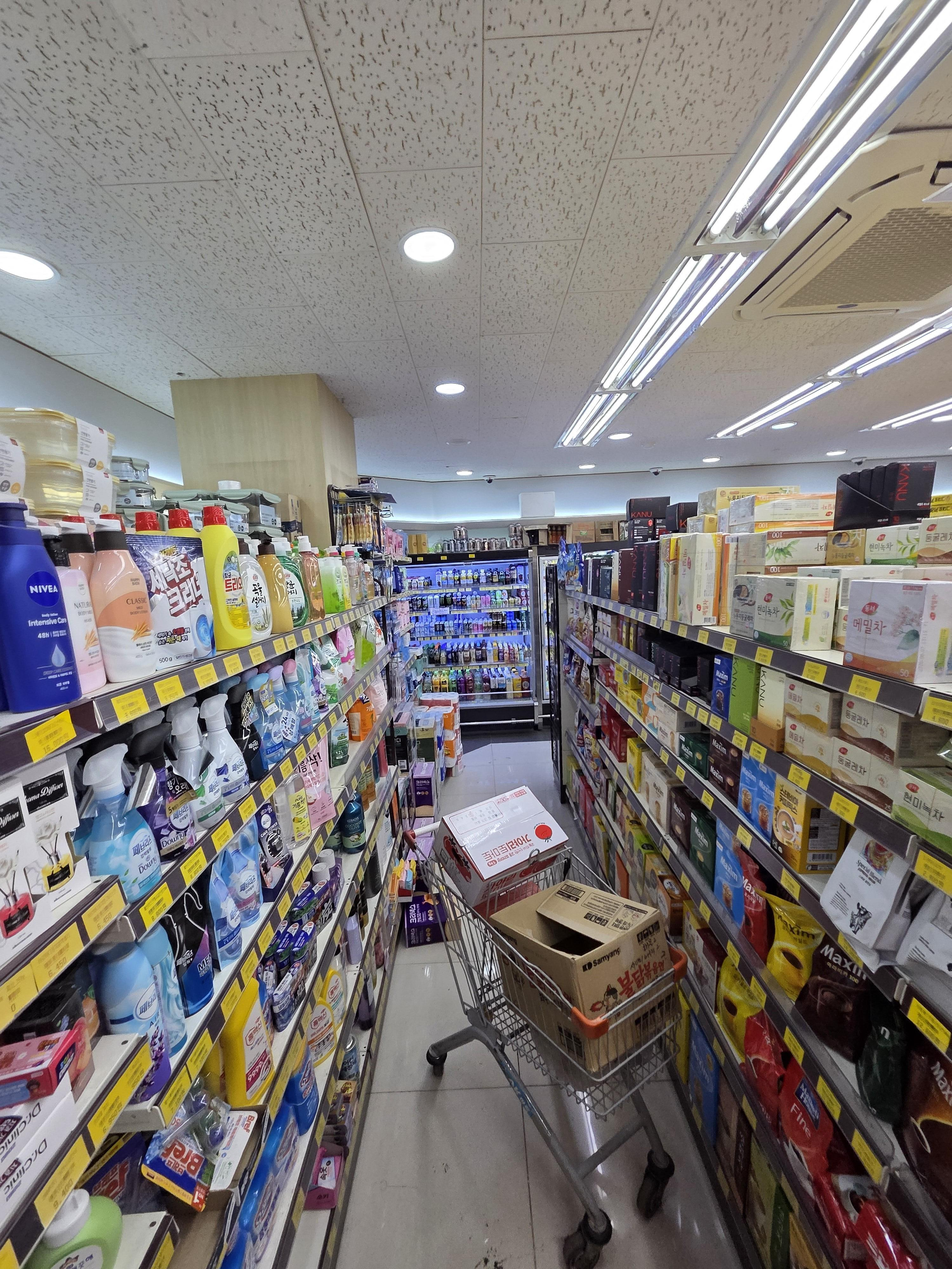fully_cart: (405, 776, 702, 1264)
